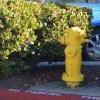a fire hydrant: (59, 25, 89, 86)
